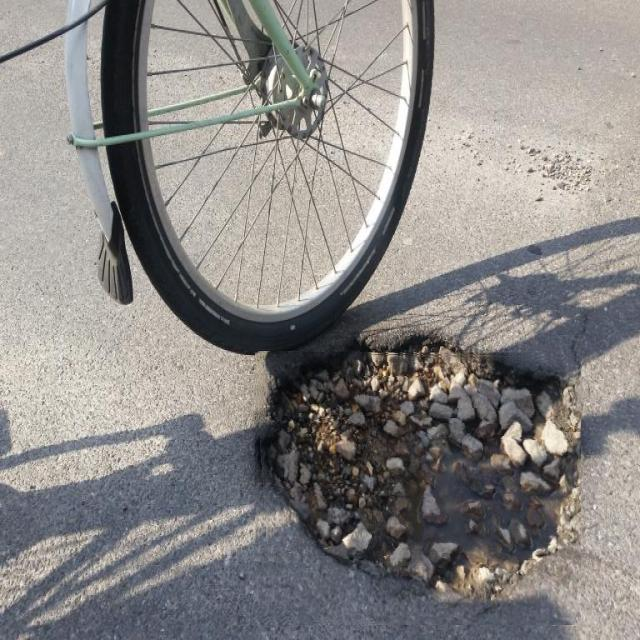Pothole: (254, 352, 581, 625)
